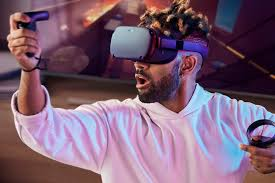oculus: (109, 25, 210, 66)
